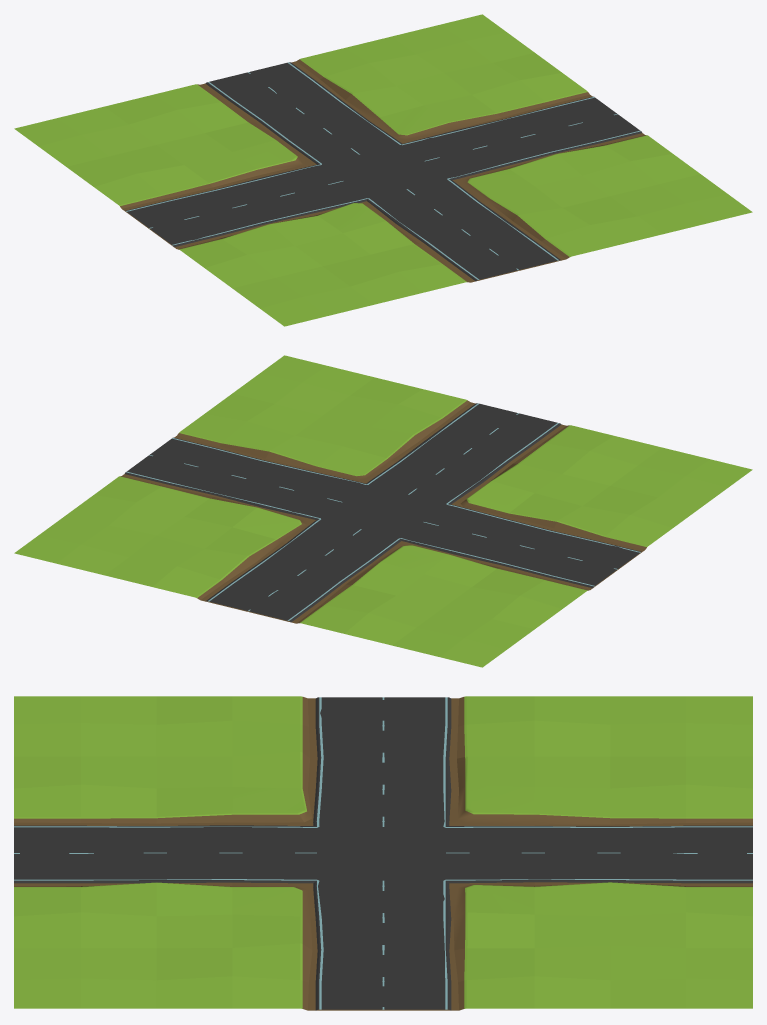
File: model_road_grass_crossroad_01.fbx
The picture shows the model from 3 angles, top to bottom: view 1: azimuth 30°, elevation 25°; view 2: azimuth 150°, elevation 25°; view 3: azimuth 270°, elevation 25°; orthographic projection. The views are drawn at different scales.
Visible parts, largest first — view 1: model_road_grass_crossroad_01; view 2: model_road_grass_crossroad_01; view 3: model_road_grass_crossroad_01.
Boxes of the visible parts, x1,y1,x2,y2 form: model_road_grass_crossroad_01: (14, 14, 752, 326); model_road_grass_crossroad_01: (14, 355, 752, 667); model_road_grass_crossroad_01: (14, 696, 752, 1010).
Bounding box in the file's own units: 6000 × 62.08 × 6000.
1 material, 1 textured.
